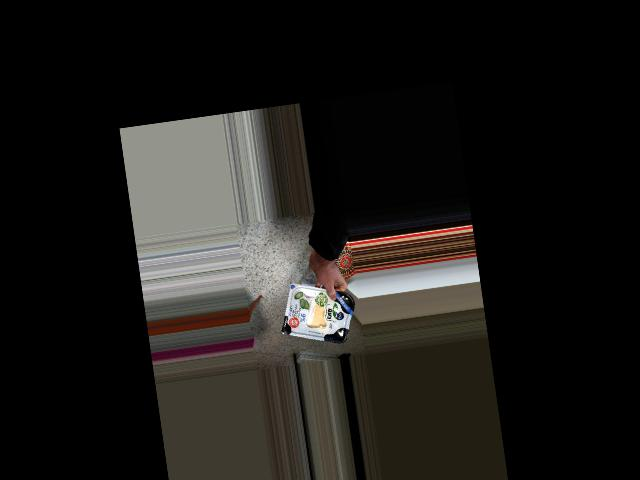cheese: (285, 286, 352, 341)
